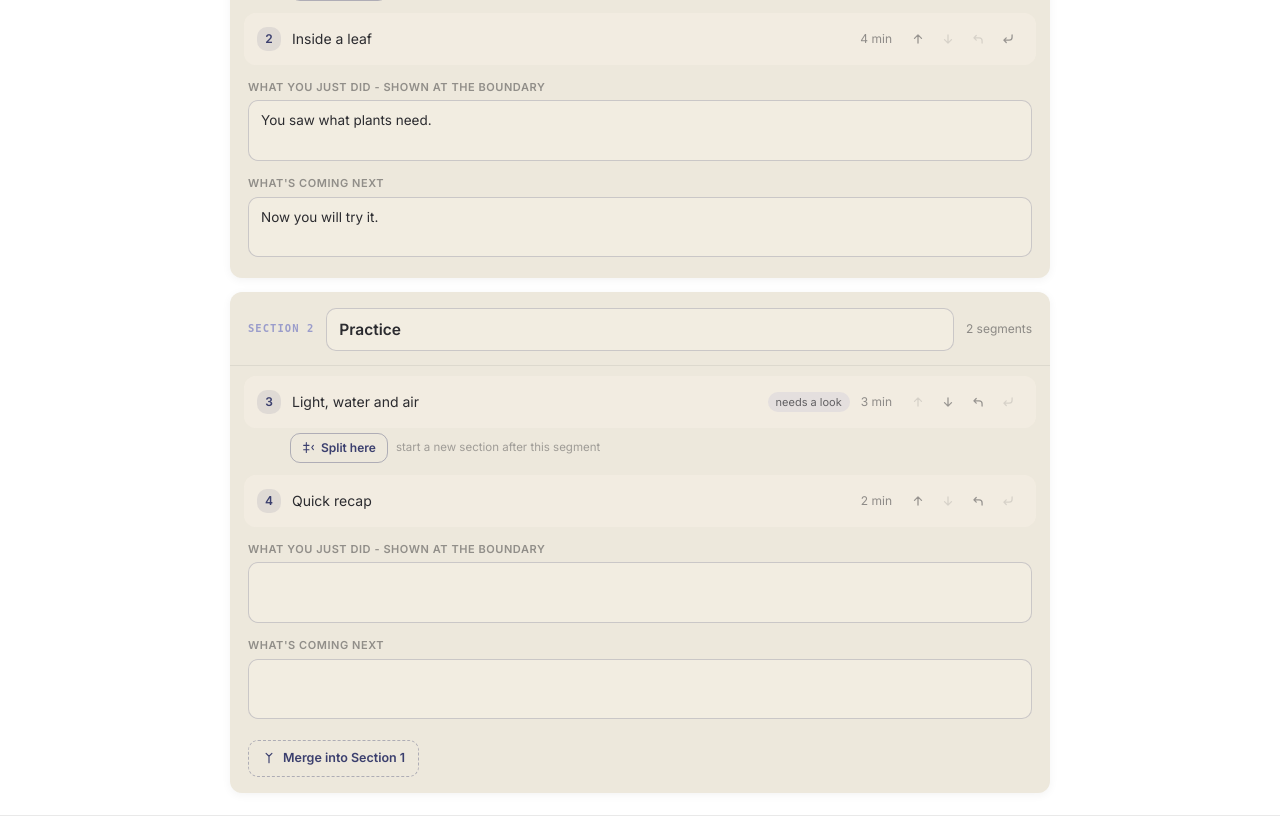
continuing › says the split is safe when it was the commit that failed
(page scrolled)
Click the button "Merge into Section 1" at (334,758), box [248, 740, 419, 777]
(page scrolled)
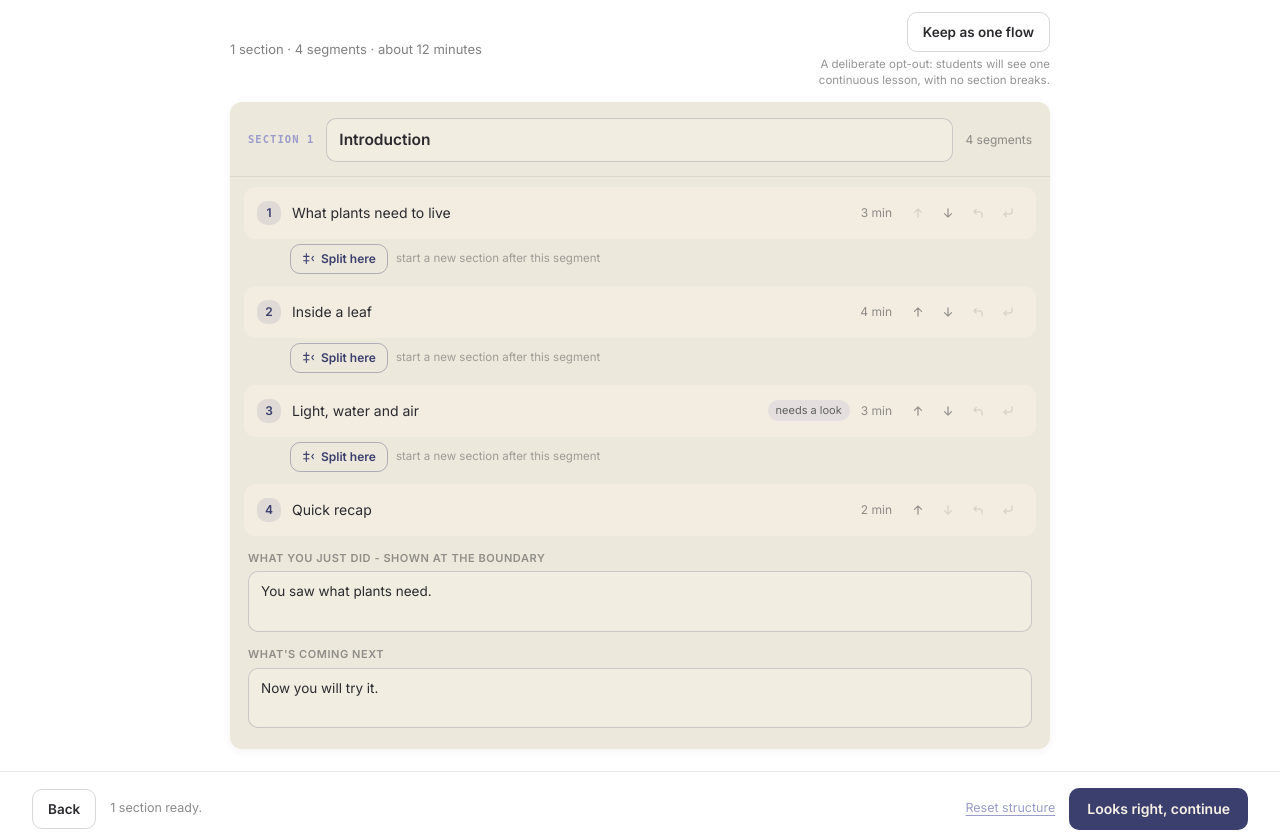
Click the button "Looks right, continue" at (1159,809), box [1069, 788, 1248, 830]
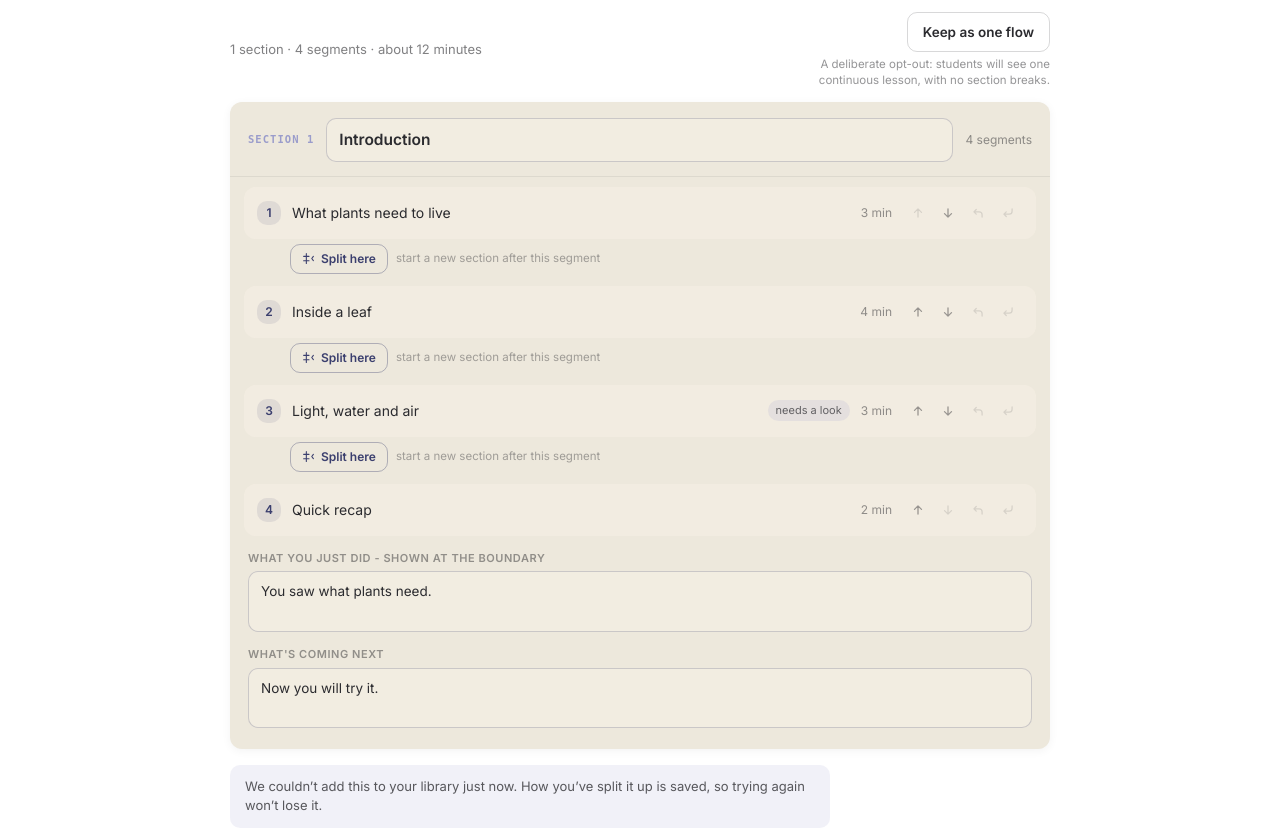
Expected: the text "trying again won’t lose it" is shown, [245, 778, 805, 813]
